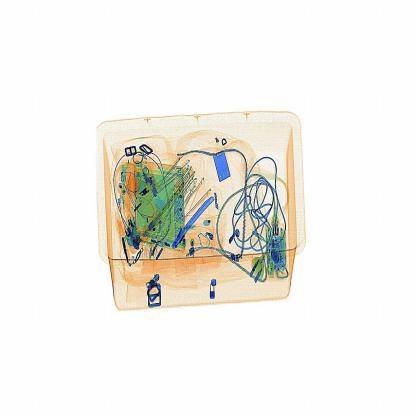pliers: (170, 190, 227, 254)
